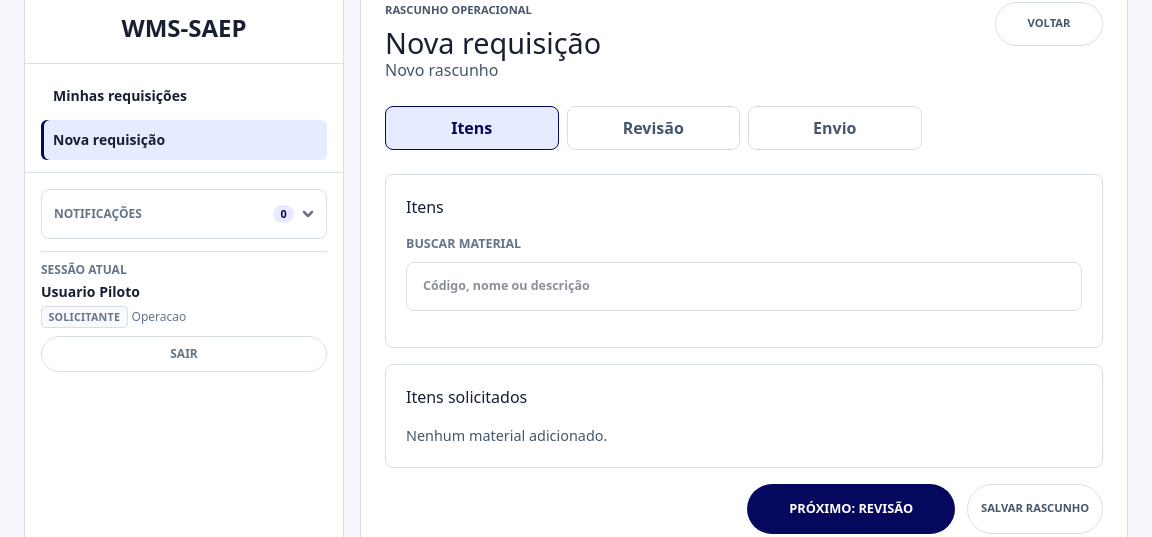
Test: frontend pilot router › keeps failed draft save visible and recoverable from session storage
Expected: the heading "Itens" is shown, x1=406 y1=196 x2=444 y2=218
Type "papel" into the field labelled "Buscar material" at (744, 287), box x1=406 y1=262 x2=1082 y2=312
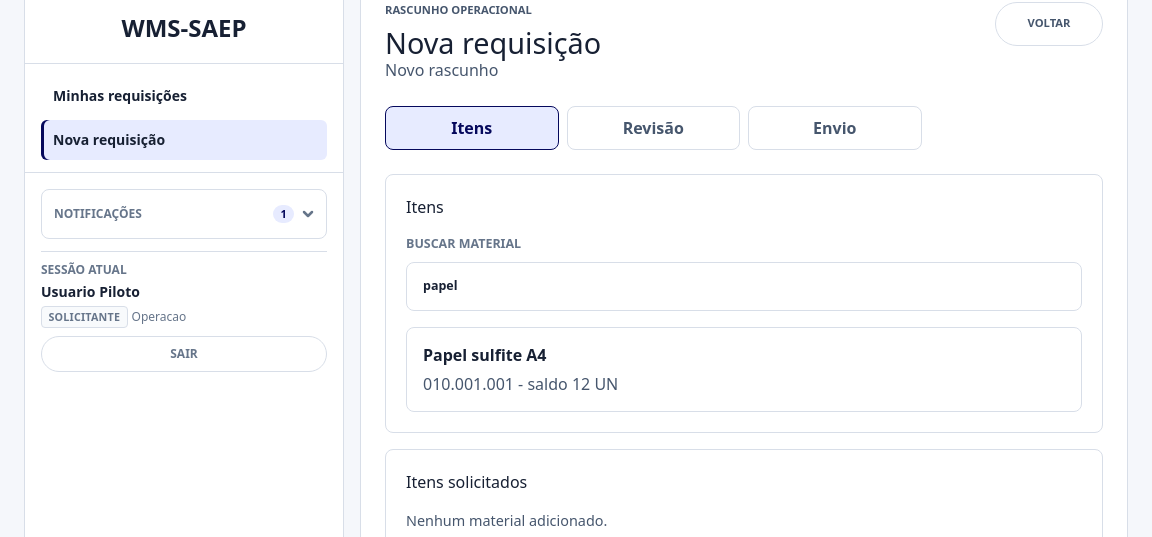
Click the button with aria-label "Adicionar Papel sulfite A4" at (485, 355), box x1=406 y1=328 x2=1082 y2=412
(page scrolled)
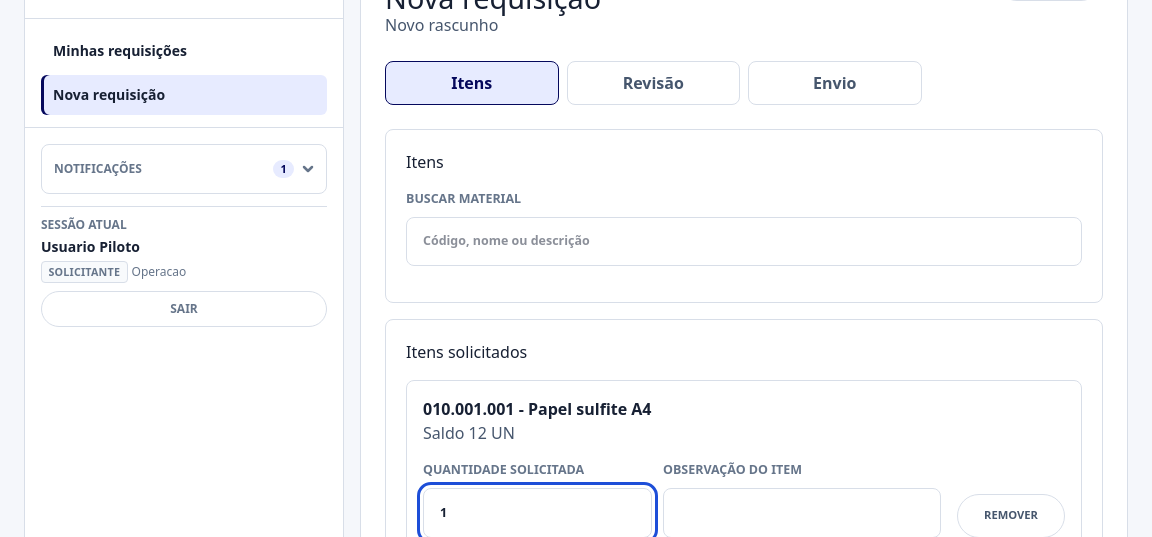
Replace the text in the field labelled "Quantidade solicitada" with "2,5" at (538, 513), box x1=423 y1=488 x2=652 y2=536
(page scrolled)
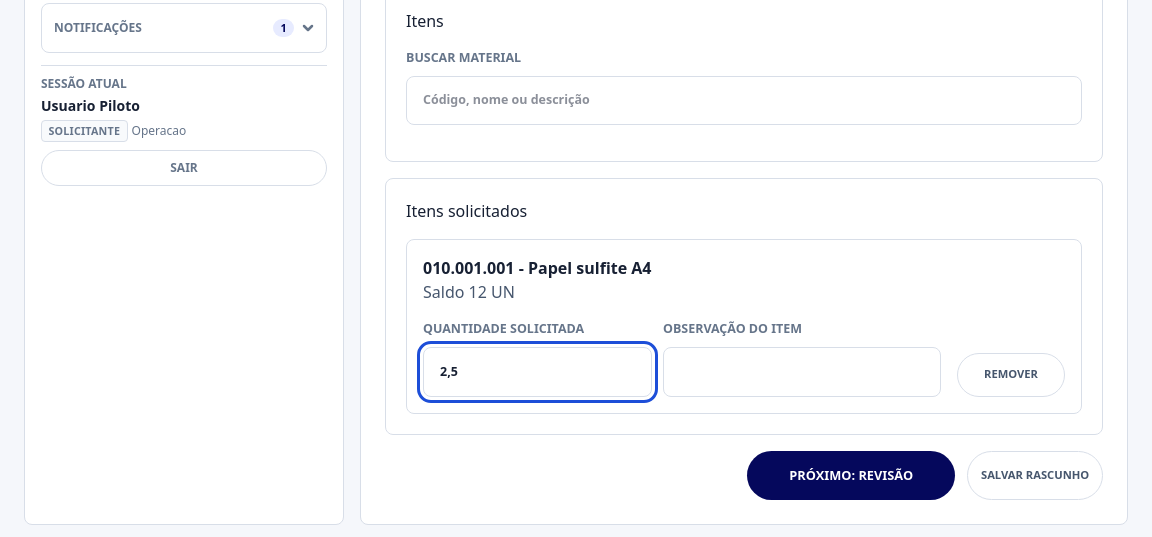
Click the button "Salvar rascunho" at (1035, 476), box x1=967 y1=451 x2=1103 y2=500
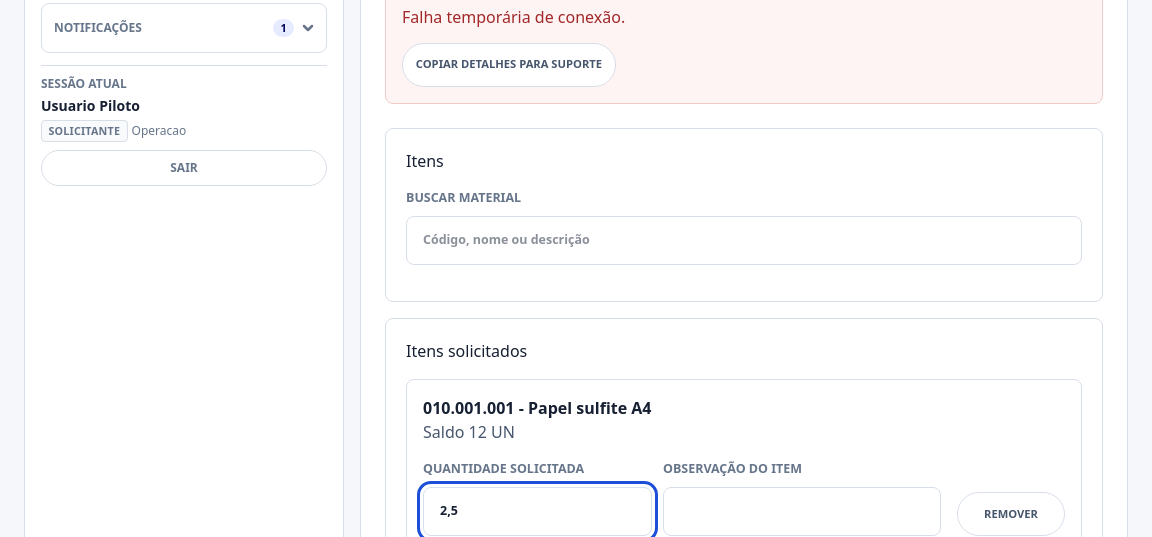
Expected: the text "Falha temporária de conexão." is shown, x1=402 y1=6 x2=625 y2=28
